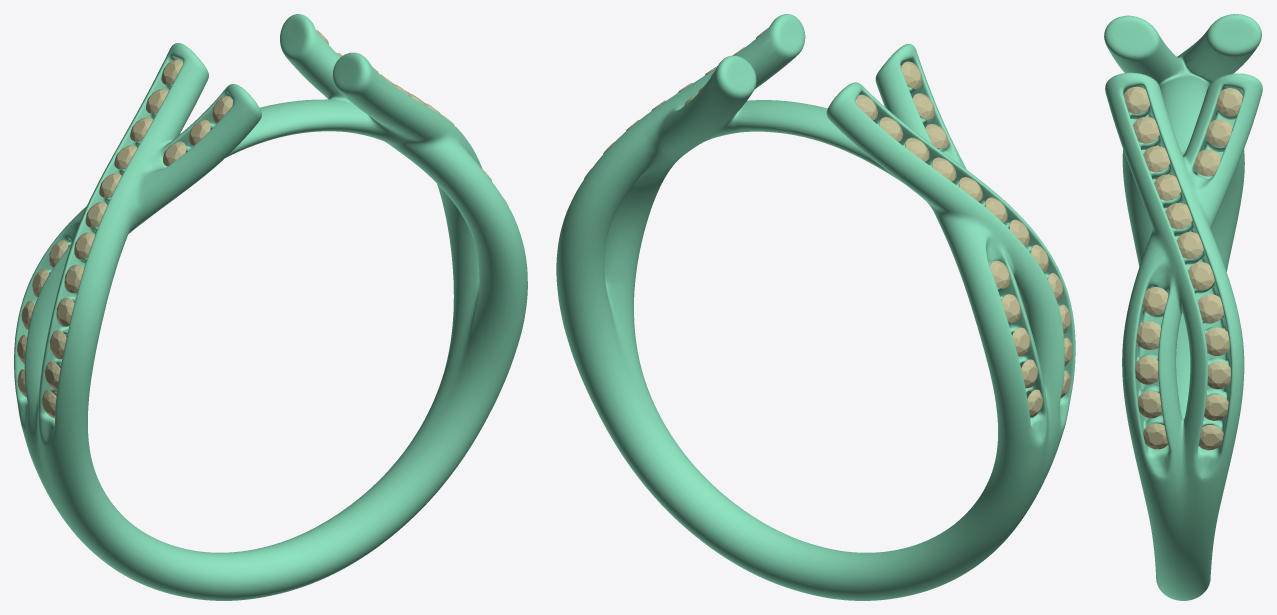
3 renders of one model, left to right at view 1: azimuth 30°, elevation 25°; view 2: azimuth 150°, elevation 25°; view 3: azimuth 270°, elevation 25°, orthographic.
Visible parts, largest first — view 1: Metal02; view 2: Metal02; view 3: Metal02, Diamond_Gem.005, Diamond_Gem.018, Diamond_Gem.001, Diamond_Gem.017, Diamond_Gem.002, Diamond_Gem.003, Diamond_Gem.019, Diamond_Gem.006, Diamond_Gem.008, Diamond_Gem.016, Diamond_Gem.007 (+9 smaller).
Part boxes in pixels (x1,y1,x2,y2): Metal02: (14,14,527,600); Metal02: (556,14,1075,600); Metal02: (1104,14,1262,600); Diamond_Gem.005: (1216,88,1242,116); Diamond_Gem.018: (1198,294,1223,322); Diamond_Gem.001: (1135,356,1158,384); Diamond_Gem.017: (1205,327,1229,355); Diamond_Gem.002: (1136,321,1160,349); Diamond_Gem.003: (1142,287,1168,315); Diamond_Gem.019: (1188,262,1214,290); Diamond_Gem.006: (1205,119,1232,146); Diamond_Gem.008: (1123,86,1149,113); Diamond_Gem.016: (1207,361,1230,389); Diamond_Gem.007: (1193,149,1220,176).
Size of the model in its own units: 20.89 by 22.58 by 6.11.
